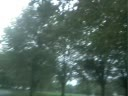window: (29, 11, 128, 95)
